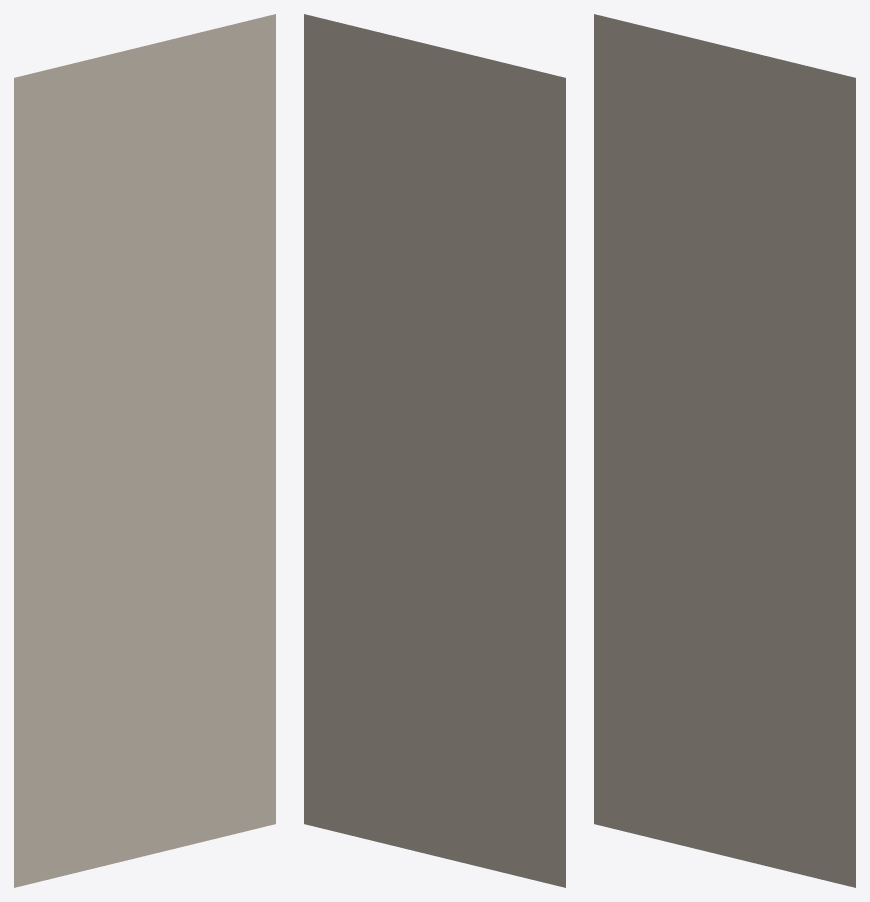
Rendered from thin_curtain.FBX.
The picture shows the model from 3 angles, left to right: view 1: azimuth 30°, elevation 25°; view 2: azimuth 150°, elevation 25°; view 3: azimuth 330°, elevation 25°; orthographic projection.
Parts seen in each view (by area): view 1: thin_curtain; view 2: thin_curtain; view 3: thin_curtain.
Boxes of the visible parts, bbox=[...] form: thin_curtain: bbox=[14, 14, 275, 887]; thin_curtain: bbox=[304, 14, 565, 887]; thin_curtain: bbox=[594, 14, 855, 887].
Size of the model in its own units: 42.54 by 126 by 0.
